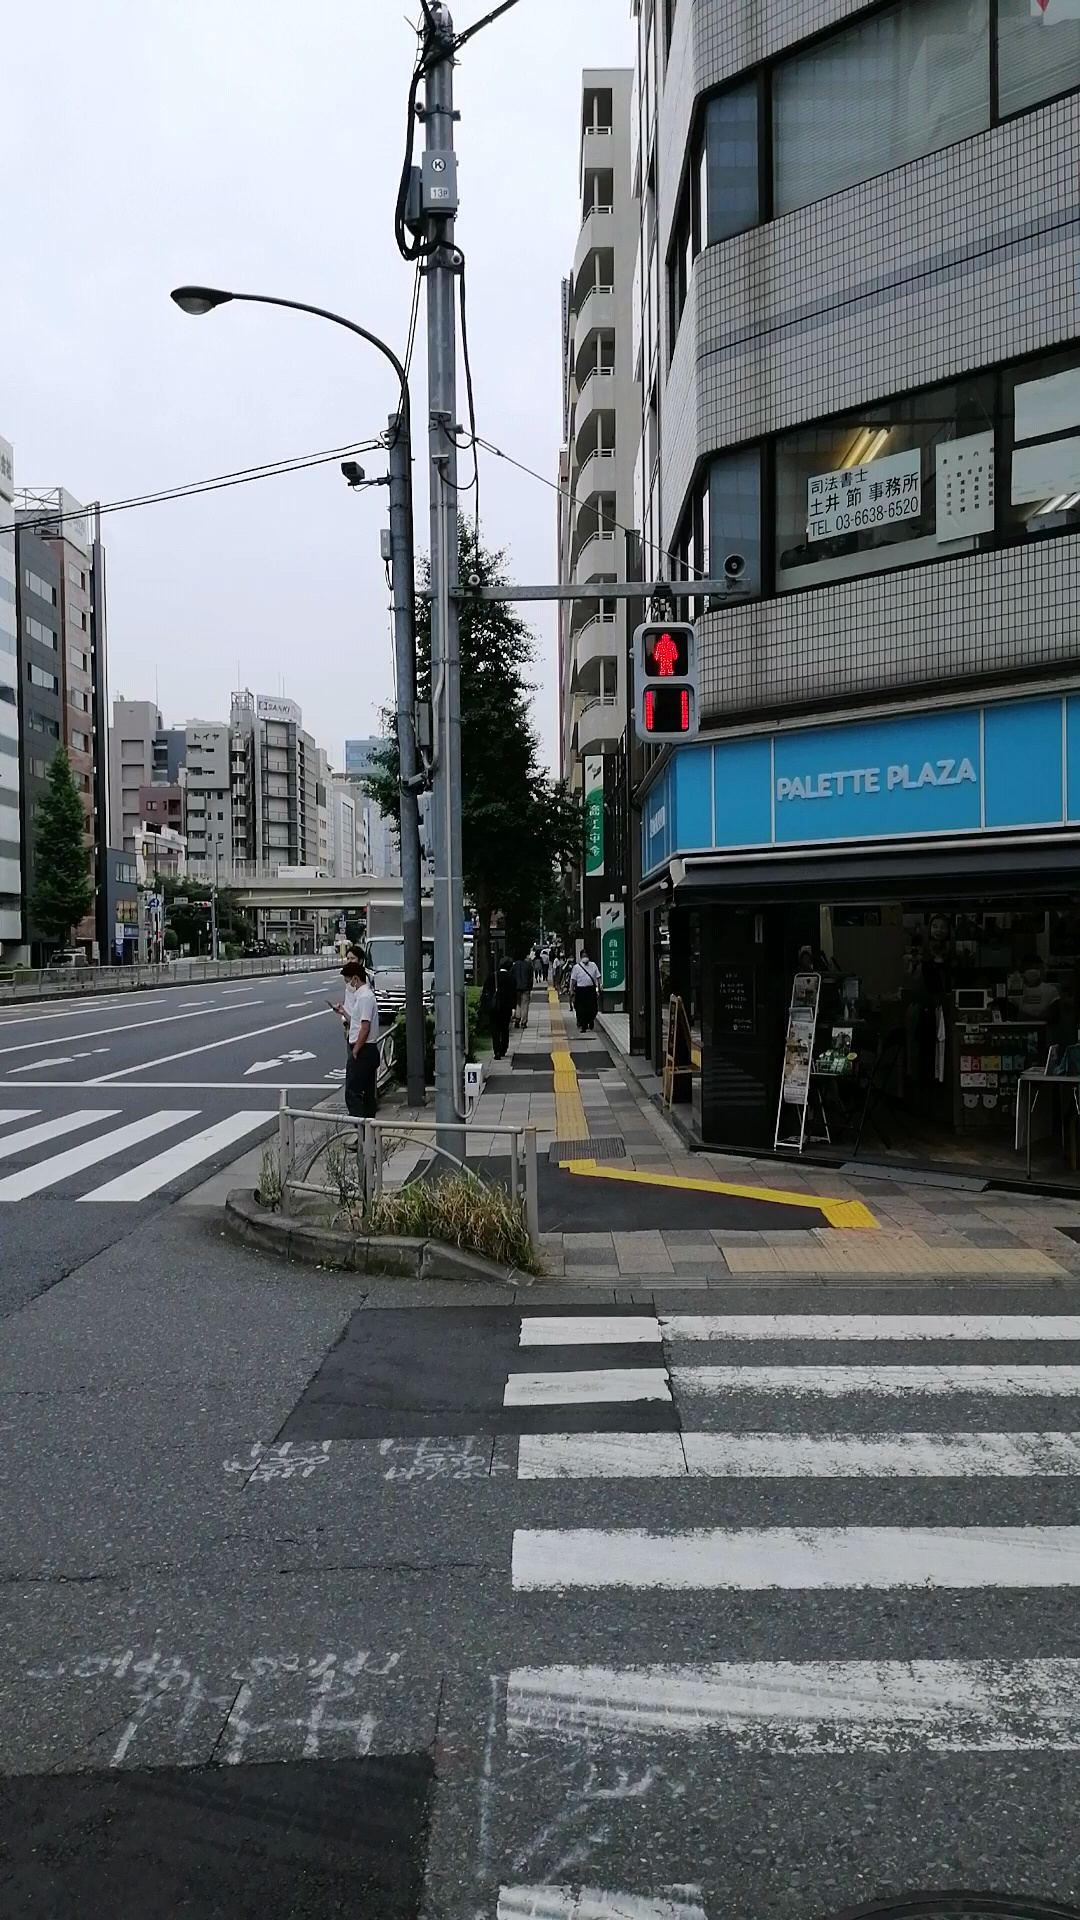red: (632, 620, 699, 740)
